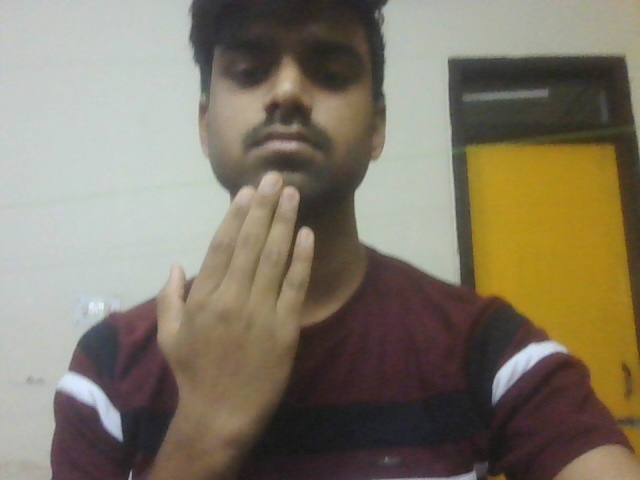thanks: (147, 158, 336, 463)
